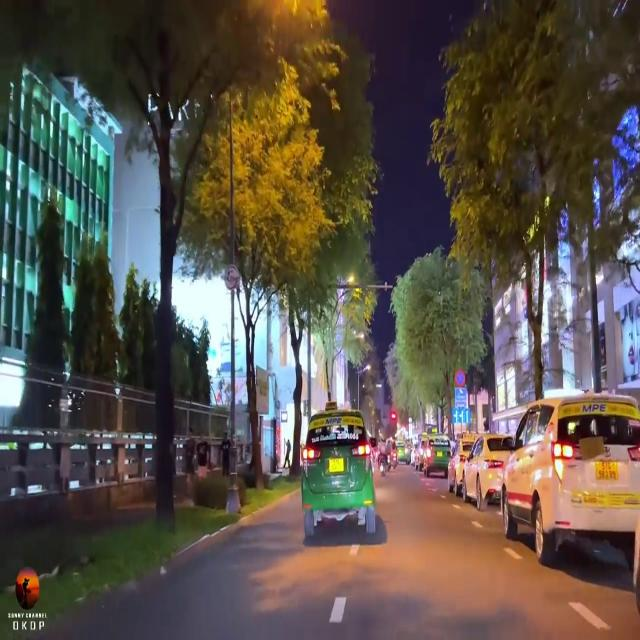bien_vang: (593, 458, 620, 485), (327, 459, 345, 471)
